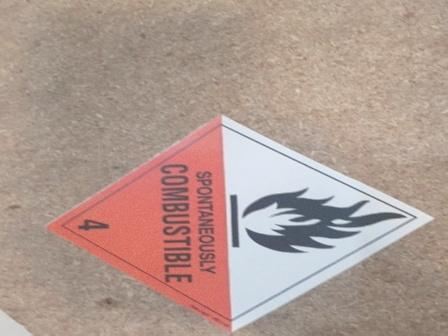spontaneously-combustible: (44, 114, 436, 335)
